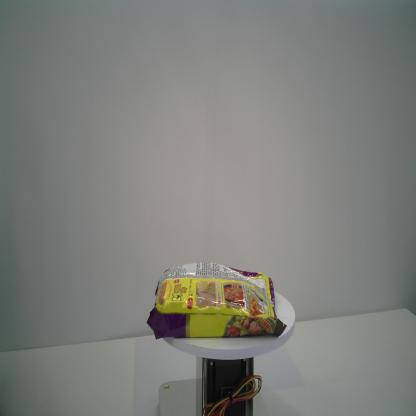Instant Noodles: (145, 260, 288, 341)
